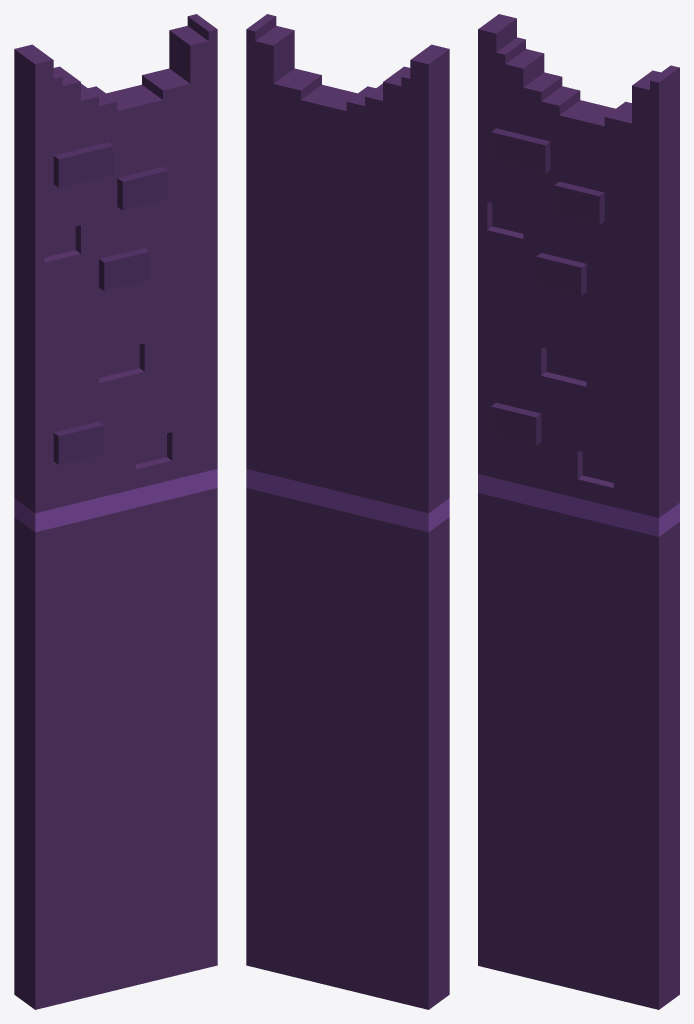
Rendered from wall4.obj.
3 renders of one model, left to right at view 1: azimuth 30°, elevation 25°; view 2: azimuth 150°, elevation 25°; view 3: azimuth 330°, elevation 25°, orthographic.
Size of the model in its own units: 2 by 9.9 by 0.5.
Materials: 1 (1 with a texture image).
